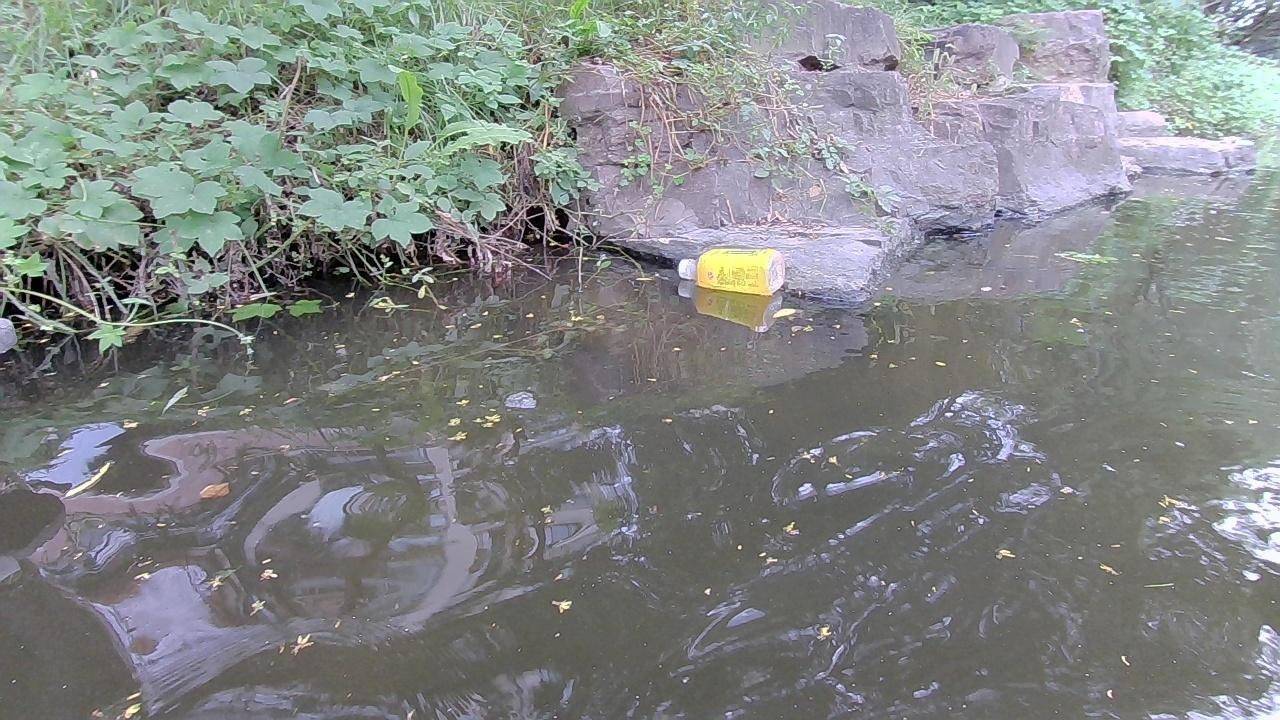bottle: (672, 245, 786, 299)
